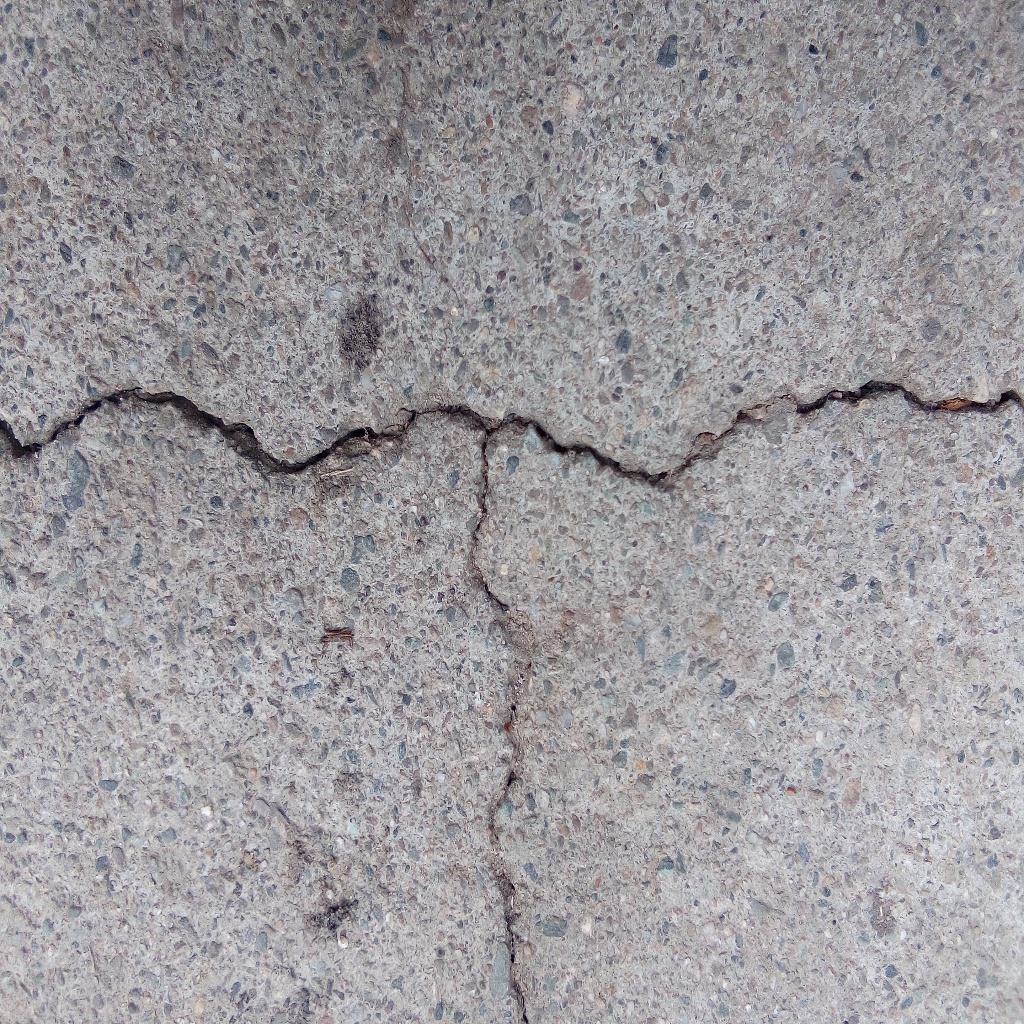Crack: (1, 379, 1024, 494), (469, 432, 533, 1024)
